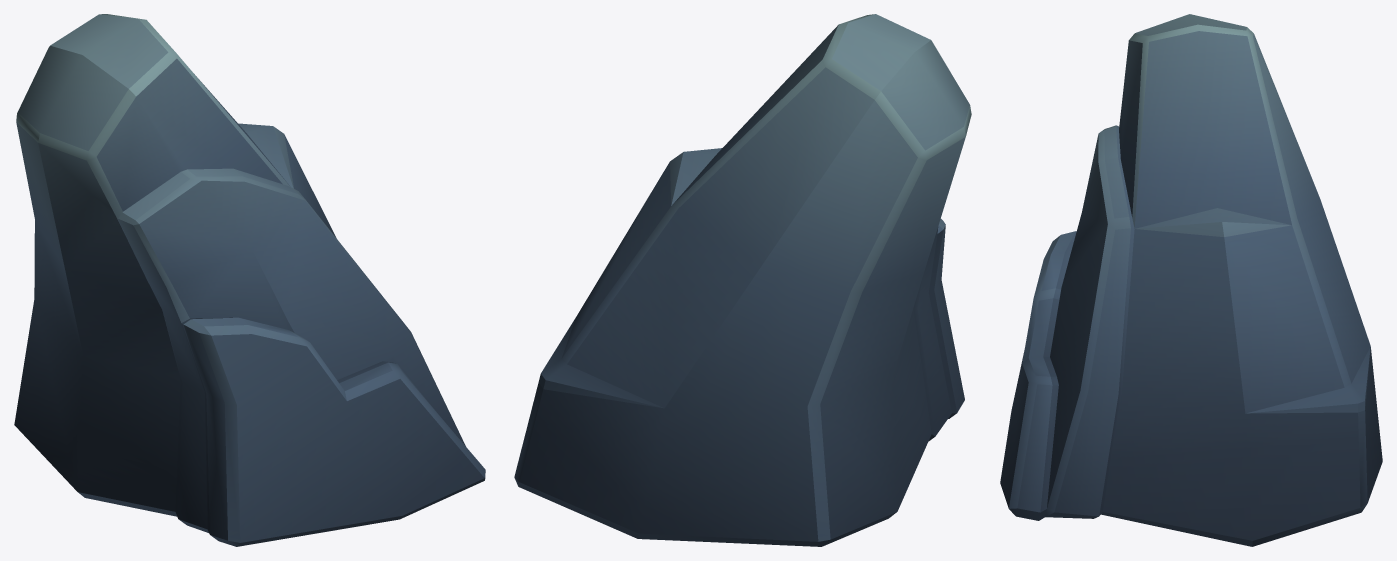
File: rock_big_1.glb
3 views of the same model, side by side, from view 1: azimuth 30°, elevation 25°; view 2: azimuth 150°, elevation 25°; view 3: azimuth 270°, elevation 25° (orthographic). The views are drawn at different scales.
Parts seen in each view (by area): view 1: rock_big_1; view 2: rock_big_1; view 3: rock_big_1.
Boxes of the visible parts, <box> form: rock_big_1: <box>14,14,485,546</box>; rock_big_1: <box>514,14,971,546</box>; rock_big_1: <box>1000,14,1382,546</box>.
Bounding box in the file's own units: 4.5 × 5.4 × 4.45.
Materials: 1 (1 with a texture image).
